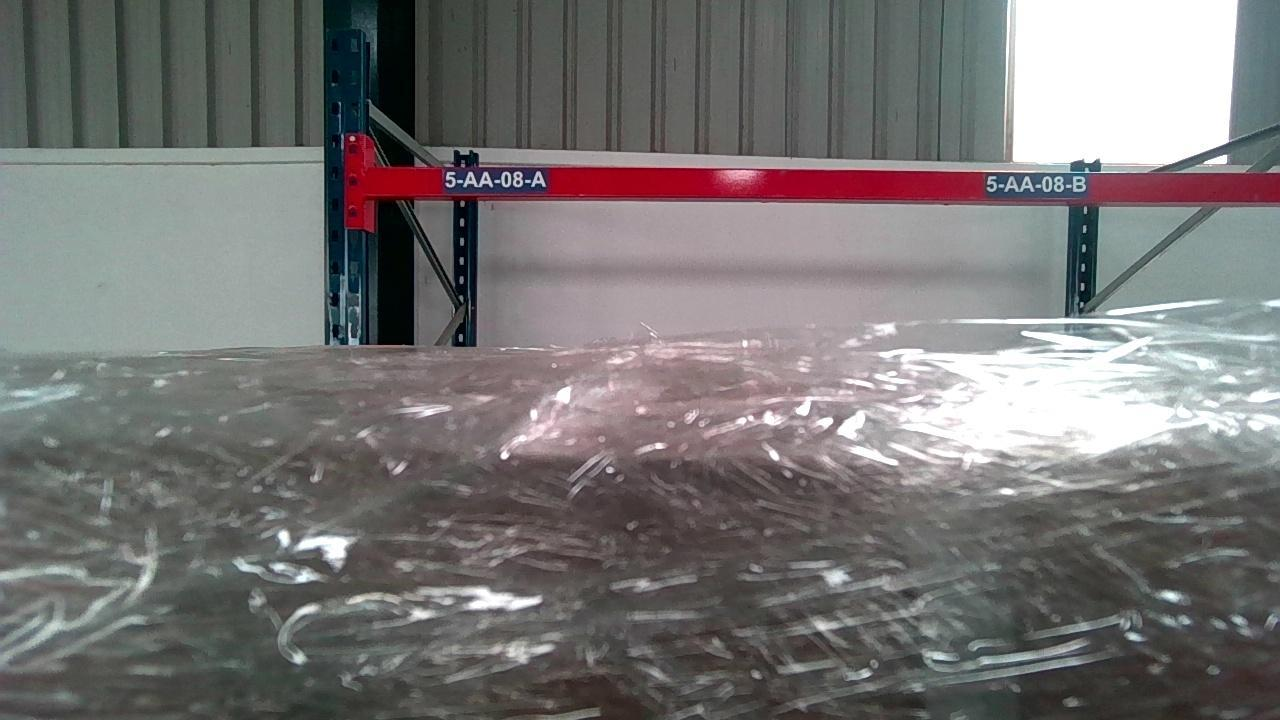h_rack: (368, 170, 1280, 204)
